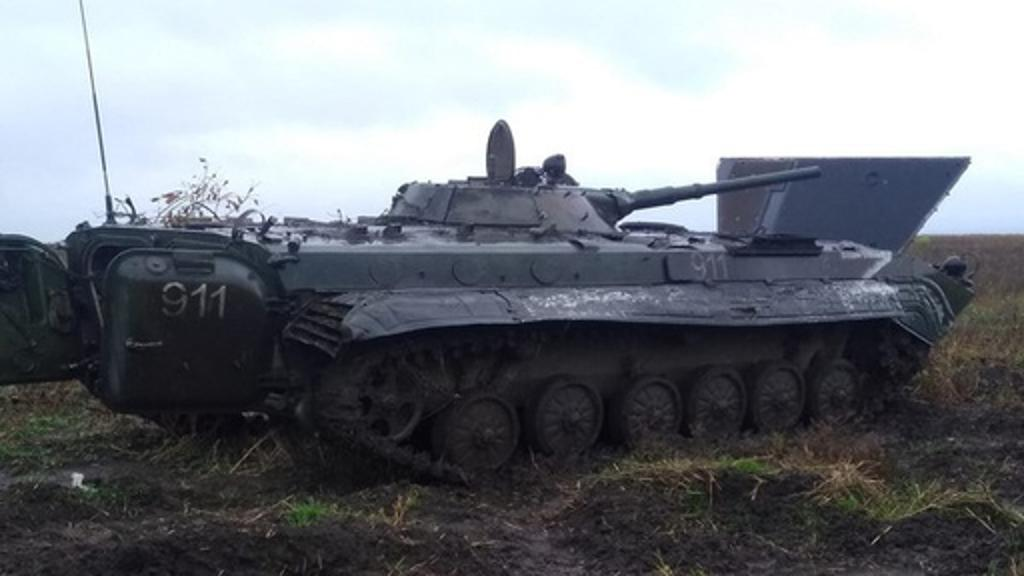APC-IFV: (0, 130, 982, 464)
